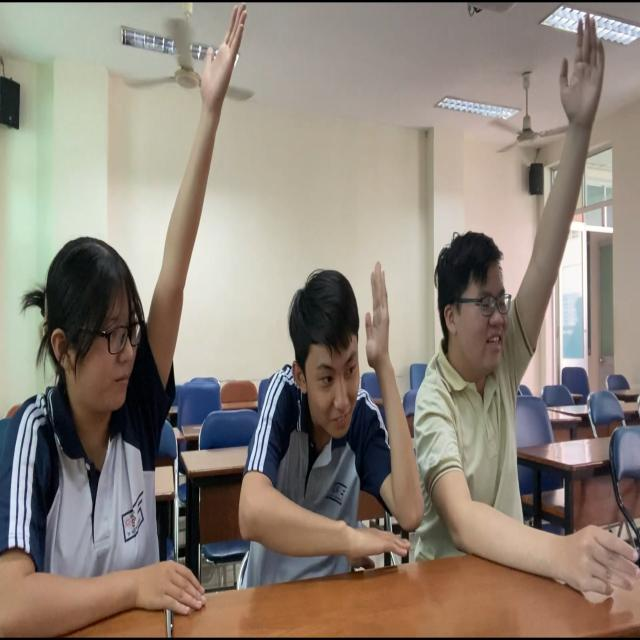raise_hand: (1, 1, 247, 640), (421, 9, 640, 625)
